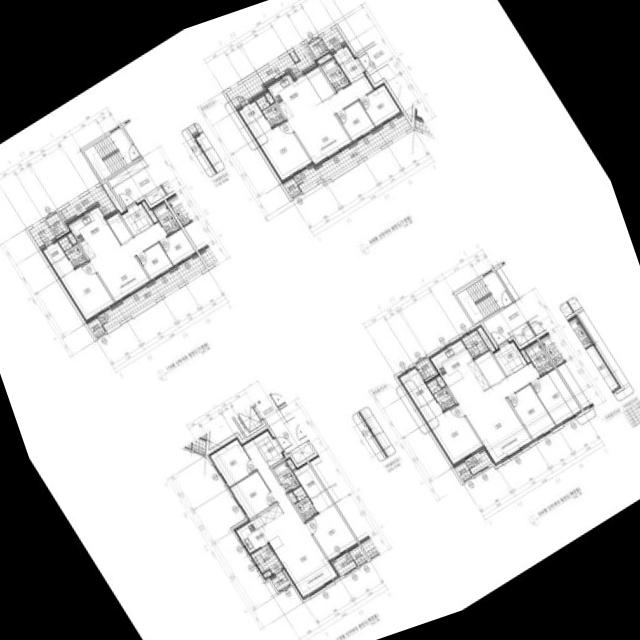background: (0, 0, 640, 640)
space_balconi: (292, 114, 411, 190), (96, 255, 205, 330), (225, 42, 315, 107), (57, 184, 115, 221), (250, 543, 282, 573), (461, 329, 488, 358), (28, 219, 54, 246), (464, 450, 492, 474), (332, 551, 356, 575), (320, 26, 344, 50)
space_bedroom: (425, 404, 482, 464), (58, 261, 114, 322), (254, 120, 310, 180), (305, 504, 358, 561), (530, 368, 580, 424), (507, 383, 555, 438), (229, 470, 276, 518), (209, 438, 255, 486), (359, 83, 400, 125), (336, 100, 374, 140), (159, 228, 196, 266), (136, 242, 173, 280)
space_dressroom: (397, 367, 442, 422), (293, 461, 332, 512), (40, 239, 73, 278), (237, 101, 270, 138)
space_elevator: (233, 403, 265, 436)
space_elevator_hall: (254, 393, 300, 453), (482, 298, 531, 344), (112, 165, 159, 206), (356, 43, 387, 74)
space_front: (120, 201, 153, 236), (497, 340, 527, 372), (257, 435, 285, 466), (339, 56, 364, 83)
space_kitchen: (430, 339, 489, 405), (66, 205, 120, 263), (232, 503, 292, 552), (267, 73, 321, 122)
space_living_room: (242, 439, 339, 599), (459, 362, 539, 462), (288, 74, 374, 164), (91, 221, 166, 302)
space_other: (107, 157, 147, 187), (474, 350, 505, 385), (304, 64, 334, 100), (103, 210, 132, 244), (495, 267, 519, 300), (101, 181, 123, 212), (286, 439, 314, 463), (475, 323, 496, 351), (508, 322, 534, 344), (492, 348, 512, 375), (46, 212, 66, 235), (415, 357, 435, 379), (270, 569, 289, 590), (251, 427, 272, 446), (144, 185, 165, 204), (332, 44, 353, 63), (141, 200, 157, 222), (308, 37, 326, 56), (316, 52, 332, 64), (284, 456, 296, 469), (520, 348, 530, 362), (261, 569, 272, 580), (435, 375, 445, 386), (264, 91, 273, 103), (67, 232, 76, 243), (289, 50, 298, 61), (288, 491, 296, 502)
space_outdoor_room: (348, 545, 367, 564), (86, 317, 104, 337), (282, 177, 300, 197), (453, 461, 471, 480)
space_staircase: (456, 270, 512, 323), (83, 127, 139, 179)
space_toilet: (319, 56, 349, 91), (524, 341, 553, 375), (426, 378, 455, 410), (57, 235, 86, 267), (255, 94, 284, 126), (271, 459, 299, 492), (152, 202, 180, 234), (292, 485, 317, 520)
